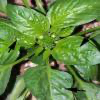Bell_pepper leaf: (23, 65, 76, 99), (7, 3, 51, 34), (53, 38, 99, 65), (0, 17, 33, 47)
